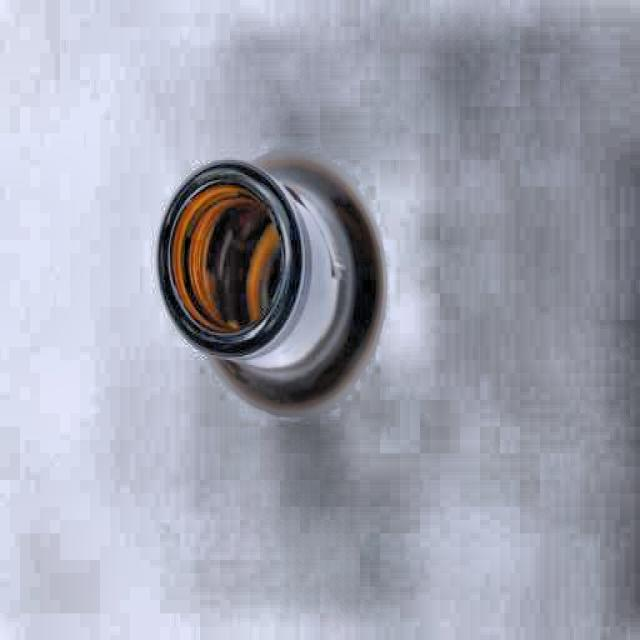glass: (150, 148, 391, 415)
